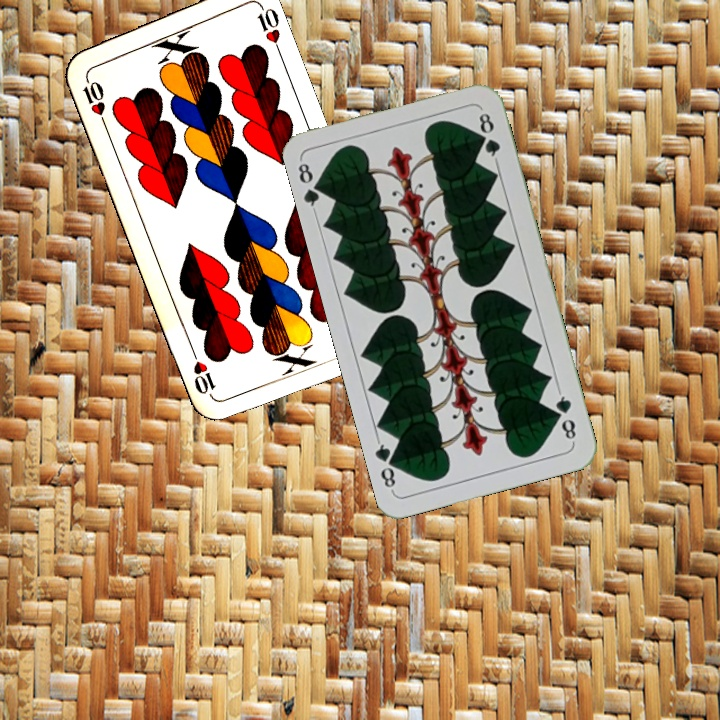G8: (293, 159, 328, 215), (551, 387, 579, 445)
H10: (78, 71, 109, 128)
